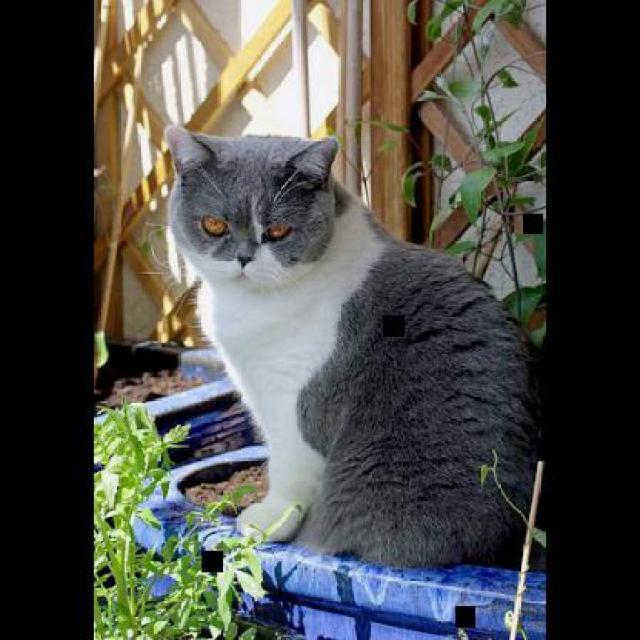unauthorized: (143, 122, 543, 570)
